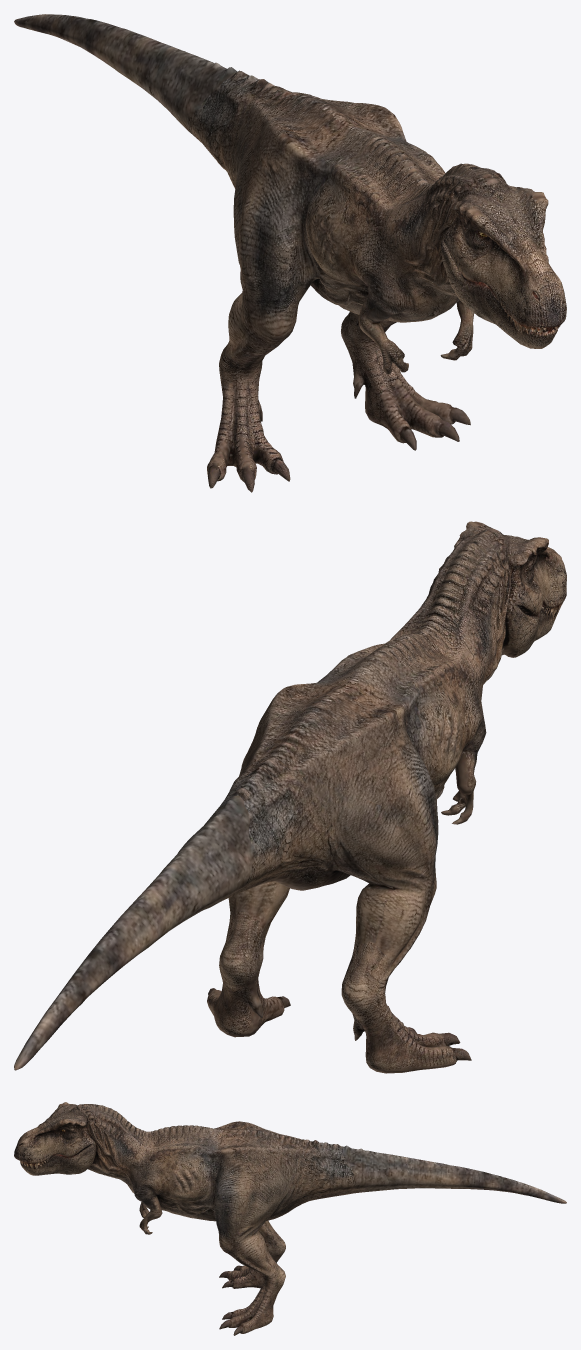
Rendered from tyrannosaurus-rex.glb.
The picture shows the model from 3 angles, top to bottom: view 1: azimuth 30°, elevation 25°; view 2: azimuth 150°, elevation 25°; view 3: azimuth 270°, elevation 25°; orthographic projection. The views are drawn at different scales.
Size of the model in its own units: 0.528 by 0.7574 by 1.9.
Materials: 1 (1 with a texture image).
